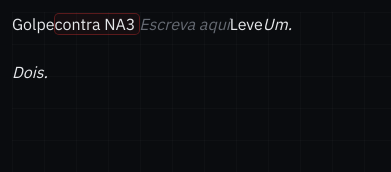
Scenario: OficinaTexto › NA3 seguido de espaço vira o selo de Nível de Ameaça, com o cursor depois dele
Clear the field with class "oficina-texto" showing "contra NA3" at (97, 24), box [54,14,139,34]
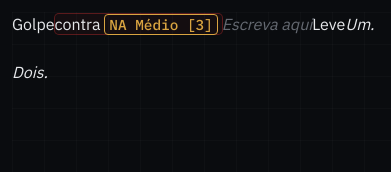
Expected: the text "NA Médio [3]" is shown, [104,14,218,35]
